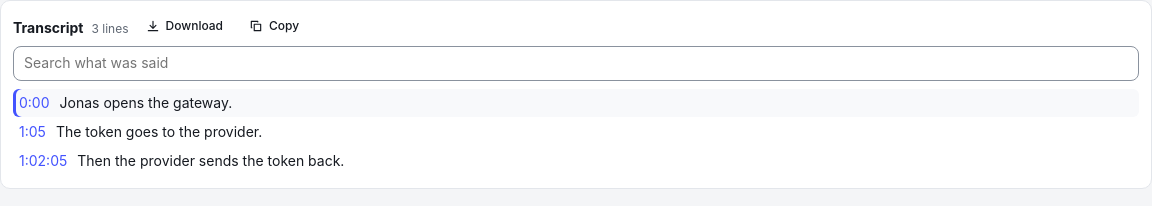
it: TranscriptView › completes the word being typed from the transcript's words, and Tab takes the completion
This screenshot has width=1152, height=206.
Expected: the text "Jonas opens the gateway." is shown, [60,93,232,113]
In the dropdown named "search the transcript": point(576, 64) [13,46,1139,81], type "the prov"
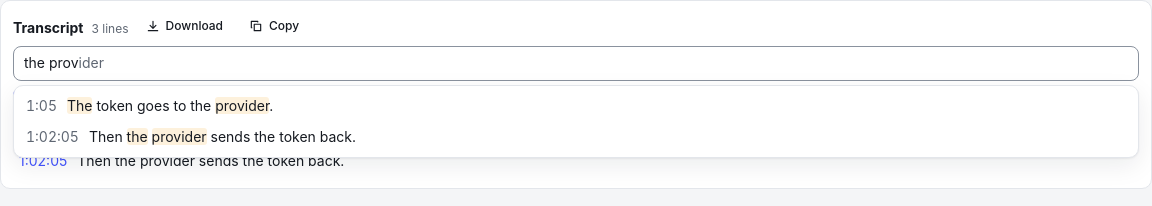
Now the text with test id "completion" reads "ider", box [79,54,104,71]
Press Tab in the dropdown named "search the transcript", box [13,46,1139,81]
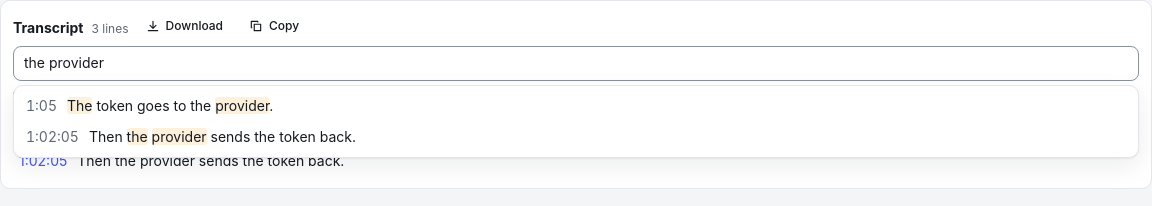
Now the dropdown named "search the transcript" holds "the provider", box [13,46,1139,81]
Now the text with test id "completion" is gone
